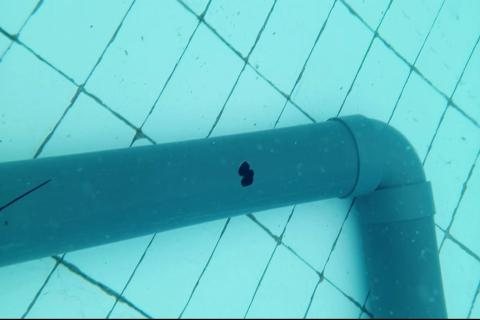kebocoran: (237, 160, 254, 189)
keretakan: (0, 177, 52, 212)
